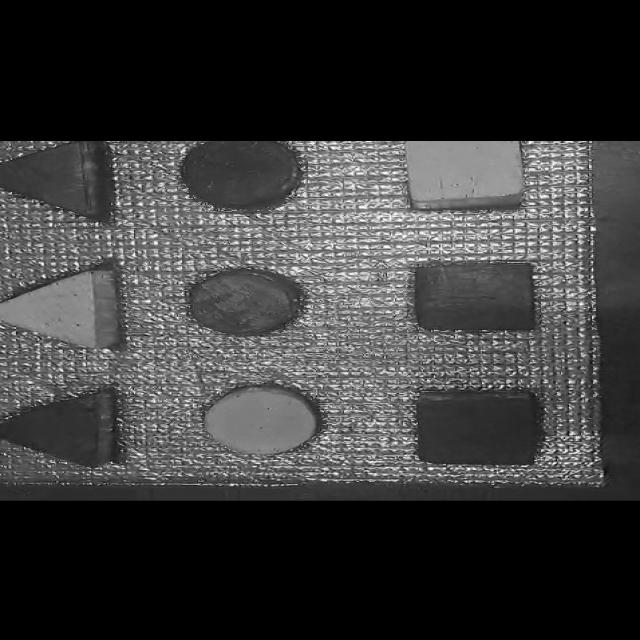bcircle: (168, 142, 318, 215)
bcube: (411, 261, 537, 333)
btriangle: (0, 386, 123, 471)
rcircle: (181, 269, 305, 338)
rcube: (410, 386, 546, 473)
rtriangle: (0, 144, 123, 232)
ycircle: (195, 386, 328, 460)
ycube: (400, 142, 533, 212)
ytriangle: (0, 269, 121, 351)
